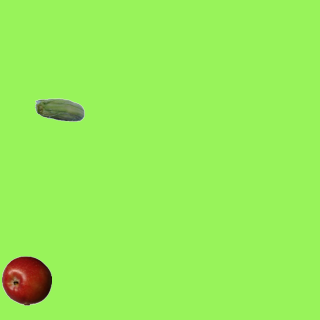Apple Braeburn: (1, 255, 51, 305)
Corn Husk: (34, 86, 84, 136)
